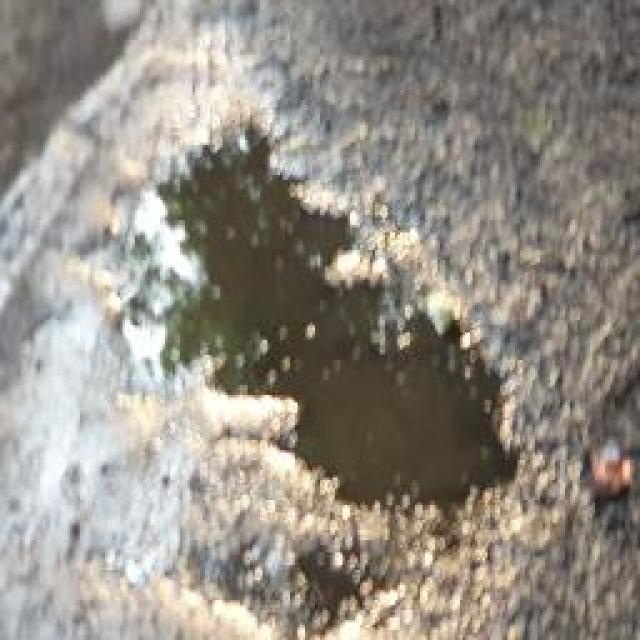stagnation: (168, 109, 533, 540)
